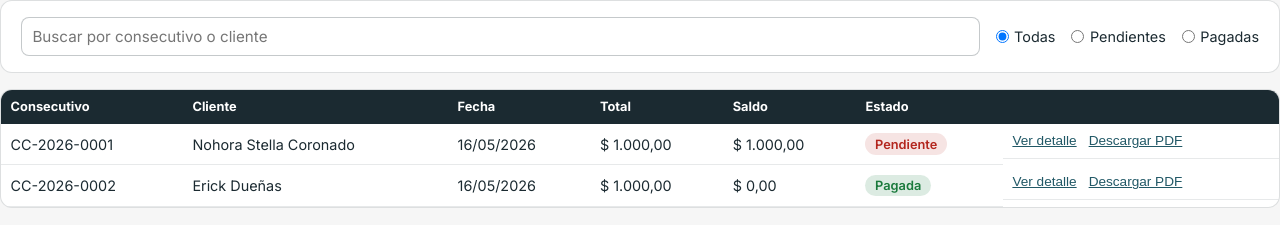
Test: HistorialList › filtra por texto de búsqueda
Check: the text "CC-2026-0001" is shown, box x1=1 y1=124 x2=183 y2=165
Type "Erick" into the field with placeholder "Buscar por consecutivo o cliente" at (500, 36), box x1=21 y1=17 x2=980 y2=56
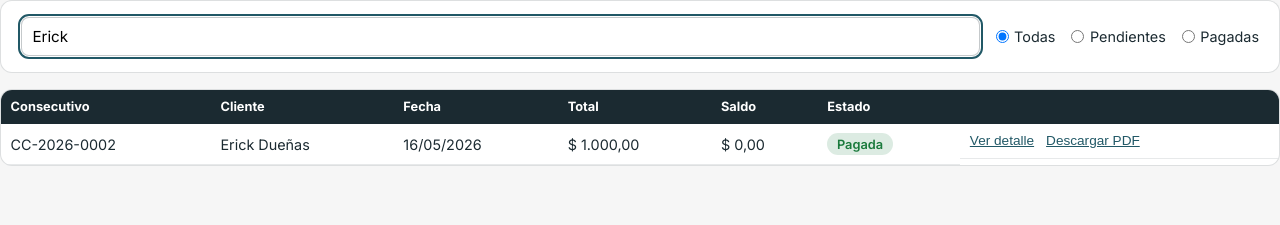
Check: the text "CC-2026-0002" is shown, box x1=1 y1=124 x2=211 y2=165
Check: the text "CC-2026-0001" is gone
